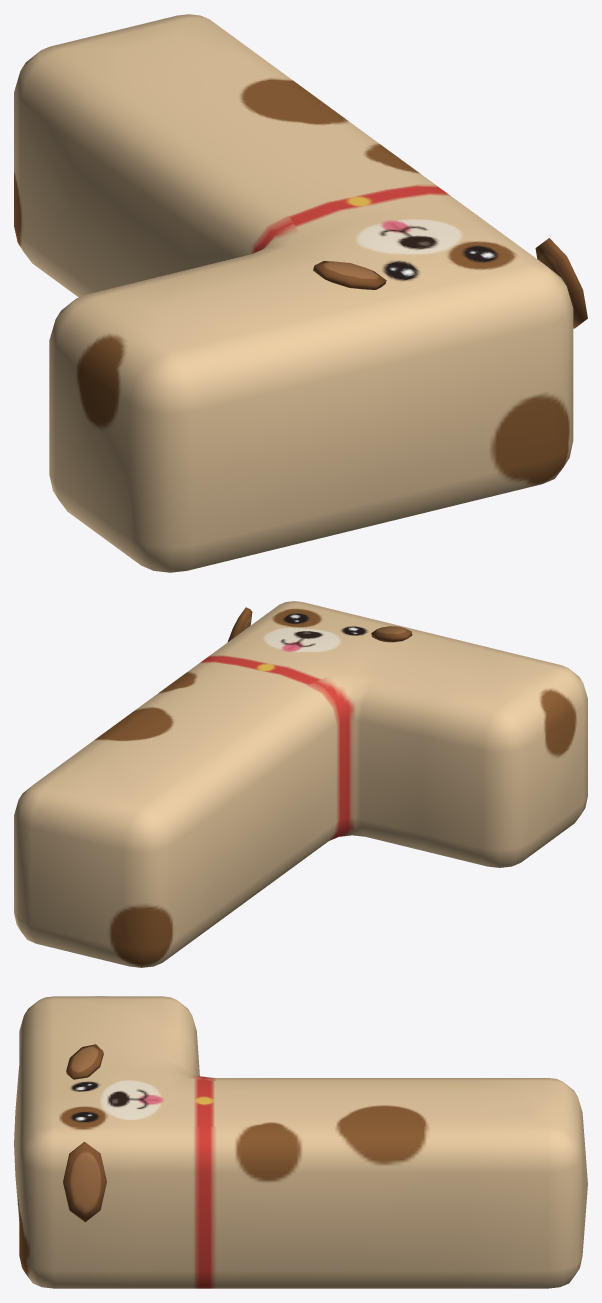
The model's file is Dog_LMirror.fbx.
The picture shows the model from 3 angles, top to bottom: view 1: azimuth 30°, elevation 25°; view 2: azimuth 150°, elevation 25°; view 3: azimuth 270°, elevation 25°; orthographic projection. The views are drawn at different scales.
Parts seen in each view (by area): view 1: Dog_LMirror; view 2: Dog_LMirror; view 3: Dog_LMirror.
Part boxes in pixels (<box>): Dog_LMirror: <box>14,14,587,572</box>; Dog_LMirror: <box>14,601,587,967</box>; Dog_LMirror: <box>14,996,587,1288</box>.
Bounding box in the file's own units: 2.09 × 0.9674 × 2.98.
1 material, 1 textured.
